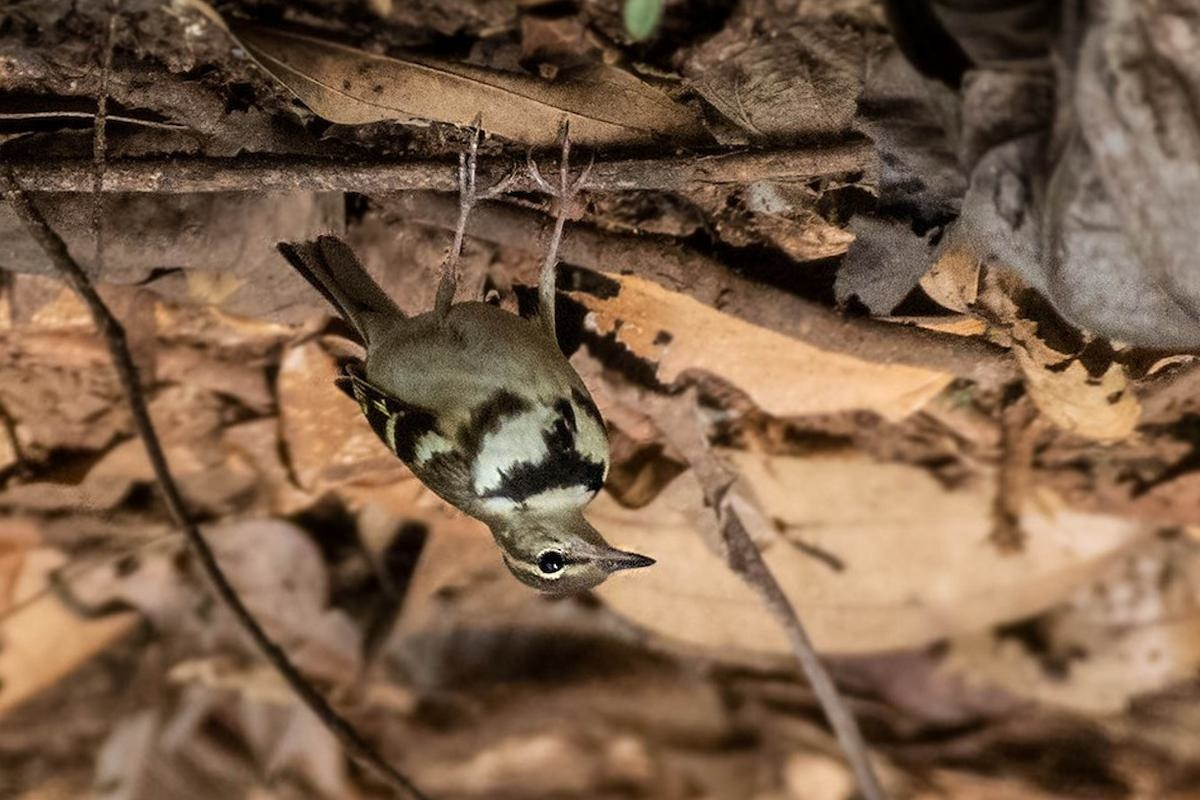wagtail: (296, 200, 659, 600)
